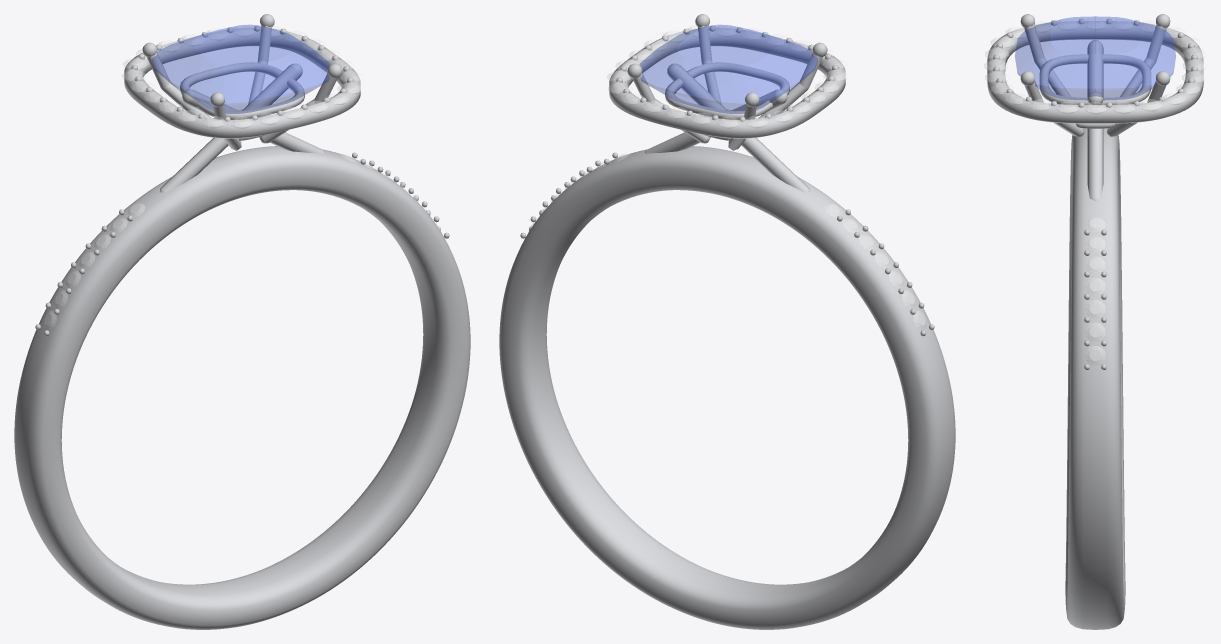
File: sapphire-halo-ring.glb
The picture shows the model from 3 angles, left to right: view 1: azimuth 30°, elevation 25°; view 2: azimuth 150°, elevation 25°; view 3: azimuth 270°, elevation 25°; orthographic projection.
Visible parts, largest first — view 1: metal, sapphire, diamond; view 2: metal, sapphire, diamond; view 3: metal, sapphire, diamond.
Boxes of the visible parts, left/top/right/bottom form: metal: left=14, top=14, right=470, bottom=629; sapphire: left=152, top=25, right=329, bottom=115; diamond: left=43, top=25, right=440, bottom=329; metal: left=499, top=14, right=955, bottom=629; sapphire: left=640, top=25, right=817, bottom=115; diamond: left=529, top=25, right=926, bottom=329; metal: left=987, top=14, right=1203, bottom=629; sapphire: left=1015, top=16, right=1175, bottom=100; diamond: left=984, top=18, right=1206, bottom=364.
Bounding box in the file's own units: 2.03 × 2.5 × 0.8851.
